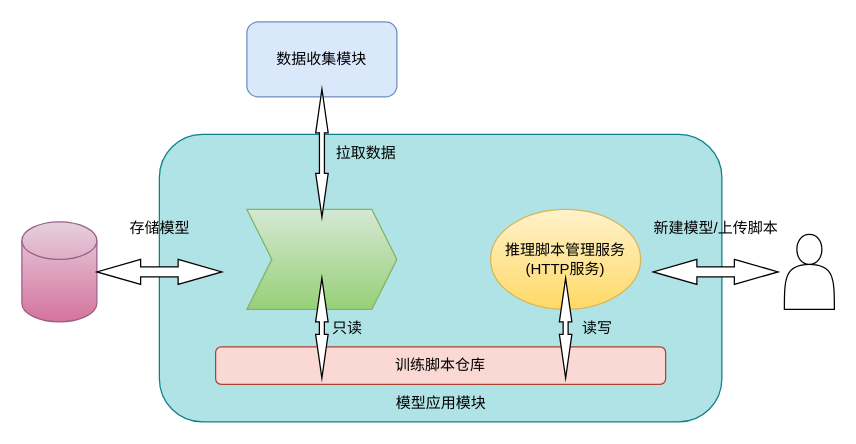
This 856x444 diagram has some shape labels left out. Each missing label, with the centre of its shape:
"推理任务" goes at point 321,258.
"模型仓库" goes at point 59,271.
